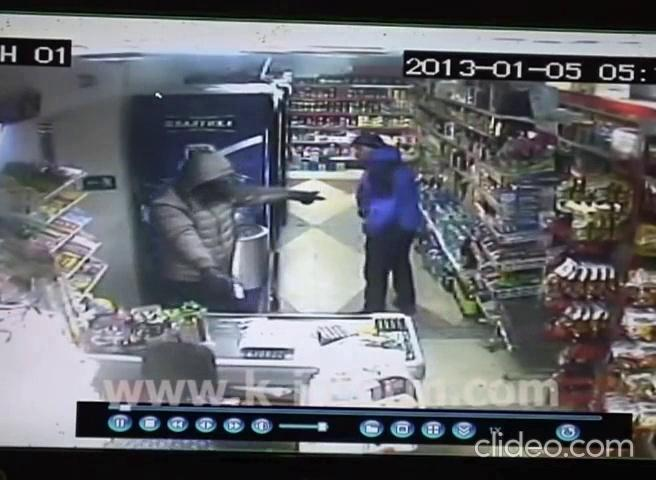person: (147, 147, 328, 311), (350, 130, 424, 316)
pistol: (227, 275, 247, 304)
